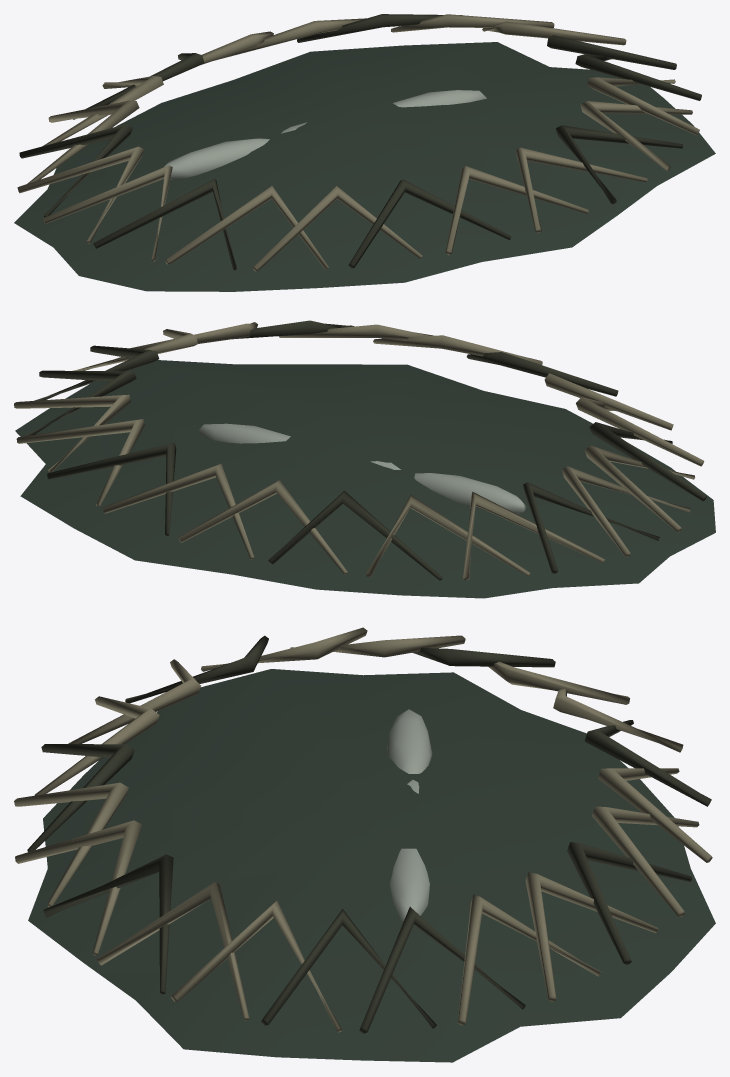
Rendered from rat-nest.glb.
3 views of the same model, one above another, from view 1: azimuth 30°, elevation 25°; view 2: azimuth 150°, elevation 25°; view 3: azimuth 270°, elevation 25° (orthographic). The views are drawn at different scales.
Parts seen in each view (by area): view 1: Surface; view 2: Surface; view 3: Surface.
Boxes of the visible parts, x1,y1,x2,y2 form: Surface: [14, 14, 715, 291]; Surface: [14, 320, 715, 598]; Surface: [14, 627, 715, 1062].
Size of the model in its own units: 0.6223 by 0.068 by 0.4614.
